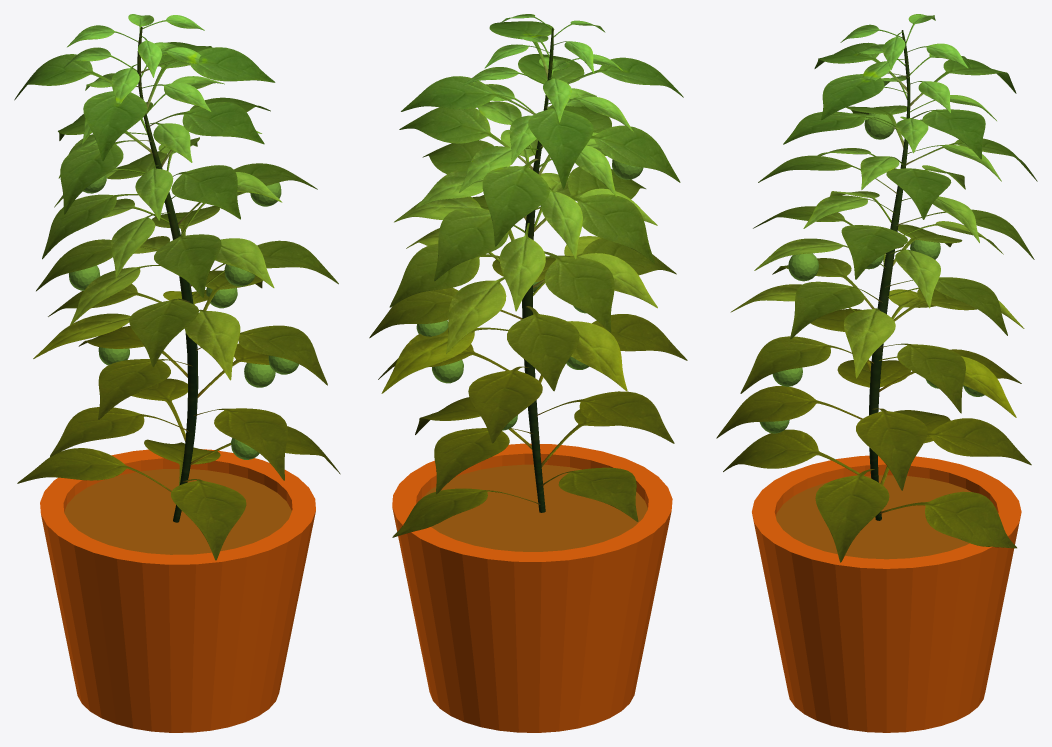
The model's file is plant_green.fbx.
3 renders of one model, left to right at view 1: azimuth 30°, elevation 25°; view 2: azimuth 150°, elevation 25°; view 3: azimuth 270°, elevation 25°, orthographic. The views are drawn at different scales.
Visible parts, largest first — view 1: Circle.002, Pot.003, Plane.003, Tomato.014; view 2: Circle.002, Pot.003, Plane.003, Tomato.014; view 3: Circle.002, Pot.003, Plane.003, Tomato.012, Tomato.017.
Part boxes in pixels (bbox=[...]): Circle.002: bbox=[14, 14, 340, 560]; Pot.003: bbox=[40, 449, 315, 732]; Plane.003: bbox=[137, 27, 198, 522]; Tomato.014: bbox=[244, 362, 275, 387]; Circle.002: bbox=[369, 14, 687, 537]; Pot.003: bbox=[392, 443, 672, 732]; Plane.003: bbox=[522, 28, 553, 512]; Tomato.014: bbox=[432, 360, 463, 383]; Circle.002: bbox=[716, 14, 1037, 562]; Pot.003: bbox=[752, 455, 1021, 732]; Plane.003: bbox=[869, 30, 910, 520]; Tomato.012: bbox=[788, 253, 818, 281]; Tomato.017: bbox=[864, 113, 894, 139].
Bounding box in the file's own units: 53.79 × 123 × 55.14.
Materials: 5 (2 with a texture image).
